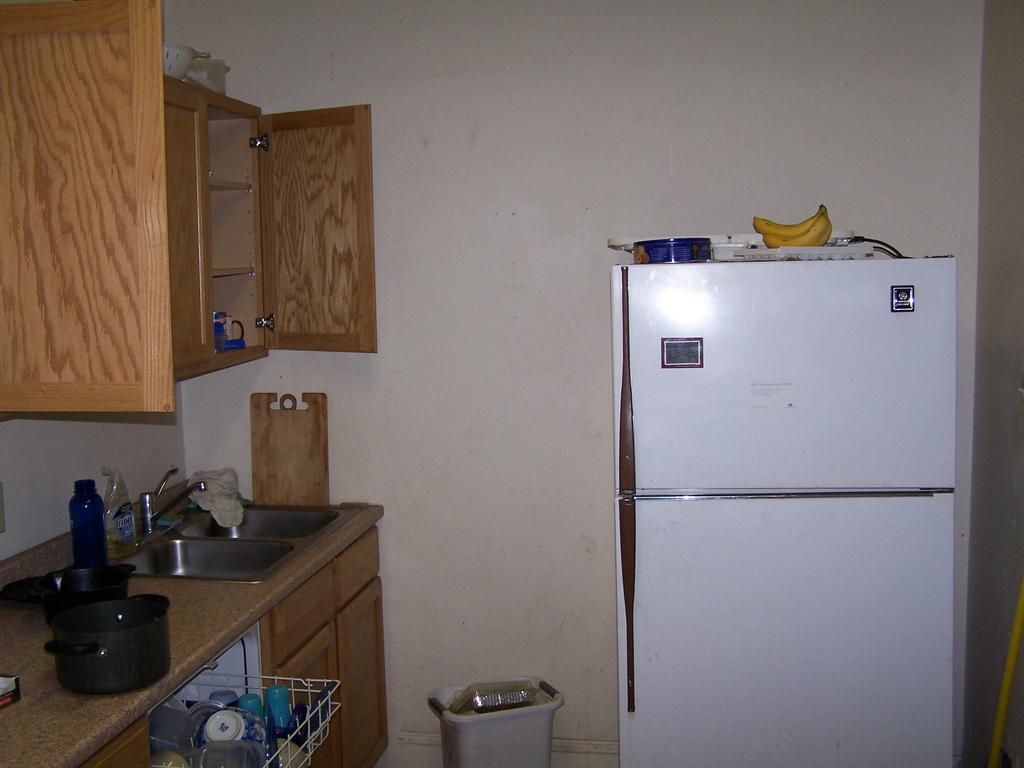cabinet_door: (14, 39, 172, 406), (262, 117, 372, 350), (342, 595, 376, 768), (268, 586, 332, 644), (327, 544, 381, 593)
handle: (611, 500, 648, 714), (616, 274, 642, 490)
